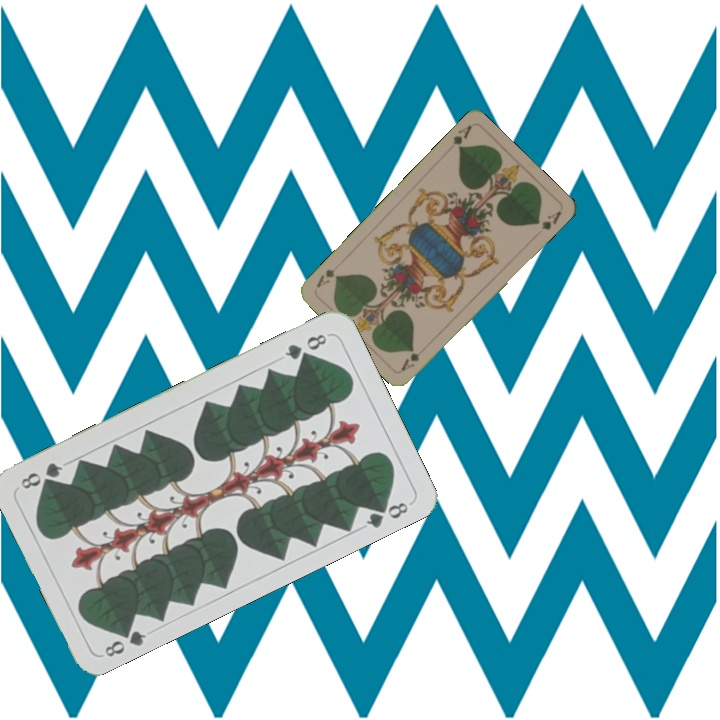G8: (100, 621, 149, 660), (280, 329, 330, 363)
GA: (449, 121, 474, 153), (397, 348, 422, 374)
